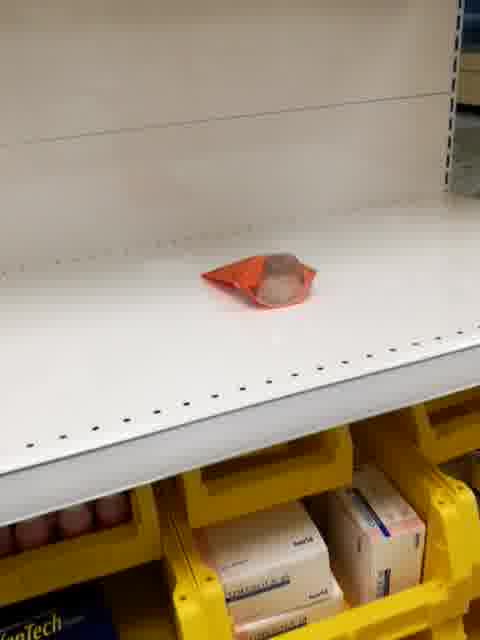whitechia: (199, 251, 317, 311)
